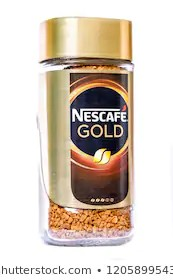nescafe-classic/gold-med: (40, 14, 136, 247)
